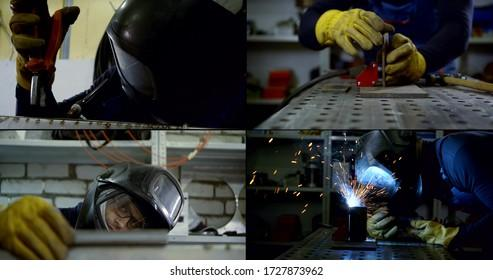gloves: (10, 1, 79, 89), (1, 195, 76, 259), (316, 9, 393, 56), (386, 33, 425, 83), (408, 219, 458, 244), (365, 208, 396, 239)
